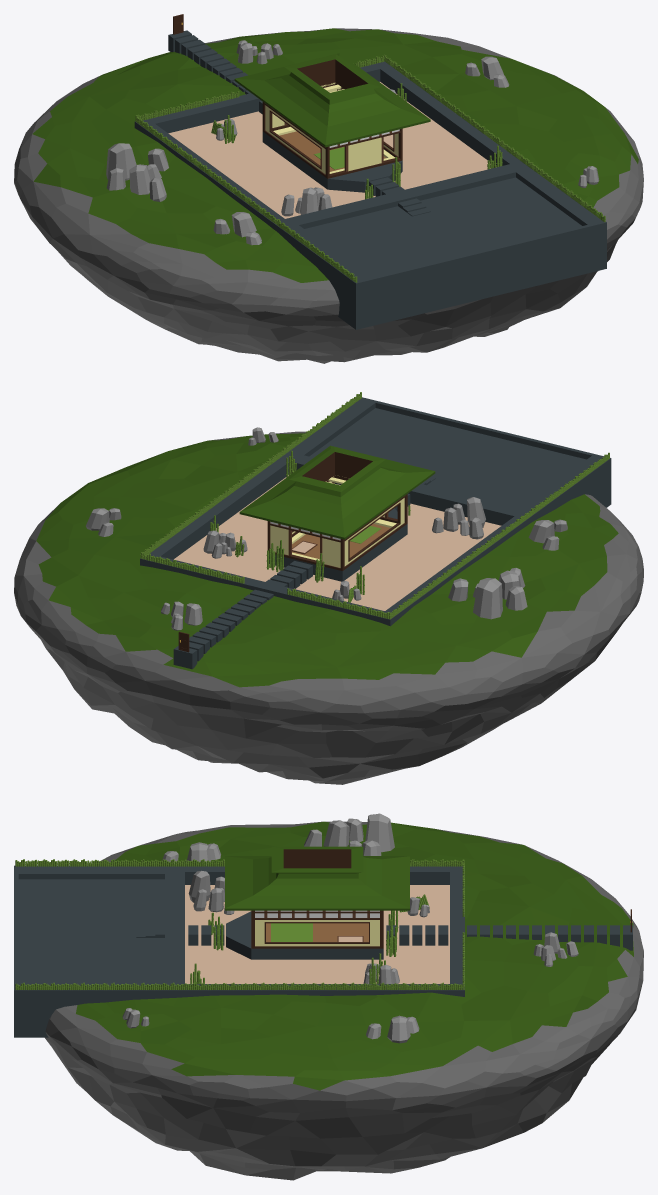
The model's file is Zen Garden (1).fbx.
The picture shows the model from 3 angles, top to bottom: view 1: azimuth 30°, elevation 25°; view 2: azimuth 150°, elevation 25°; view 3: azimuth 270°, elevation 25°; orthographic projection. The views are drawn at different scales.
Parts seen in each view (by area): view 1: Zen Garden Full Object; view 2: Zen Garden Full Object; view 3: Zen Garden Full Object.
Part boxes in pixels (x1,y1,x2,y2): Zen Garden Full Object: [14, 14, 643, 363]; Zen Garden Full Object: [14, 392, 643, 784]; Zen Garden Full Object: [14, 813, 643, 1180].
Size of the model in its own units: 7110 by 3505 by 7138.
Materials: 2 (2 with a texture image).
